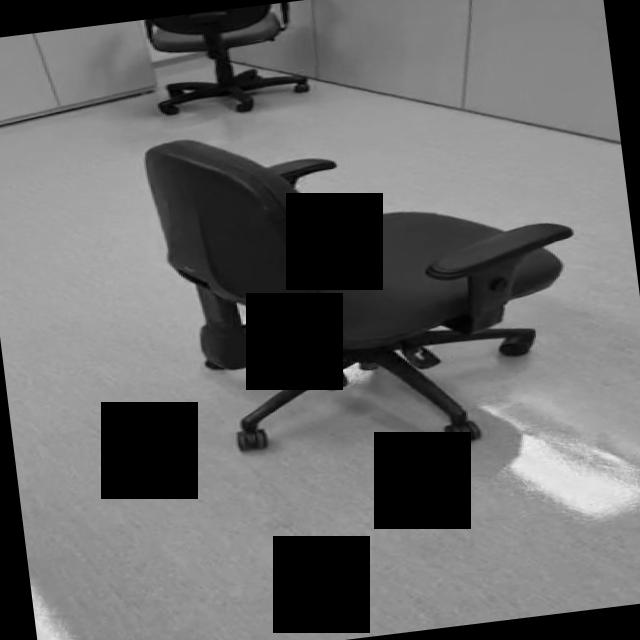cadeira-azul: (143, 91, 599, 476)
